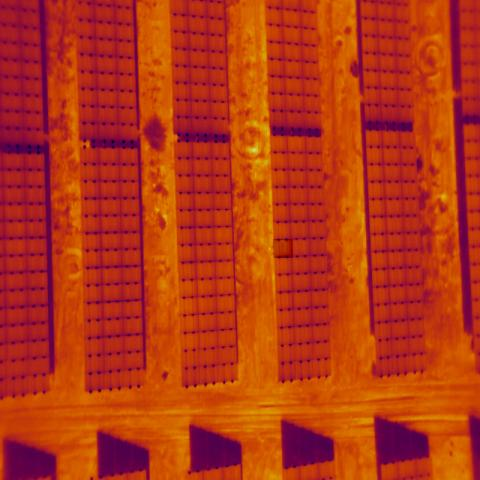fault: (273, 239, 293, 258)
